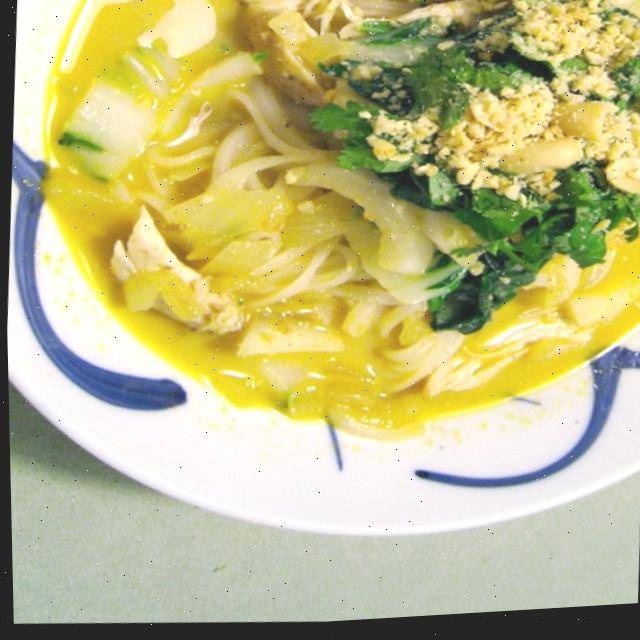面条主食: (8, 0, 640, 565)
